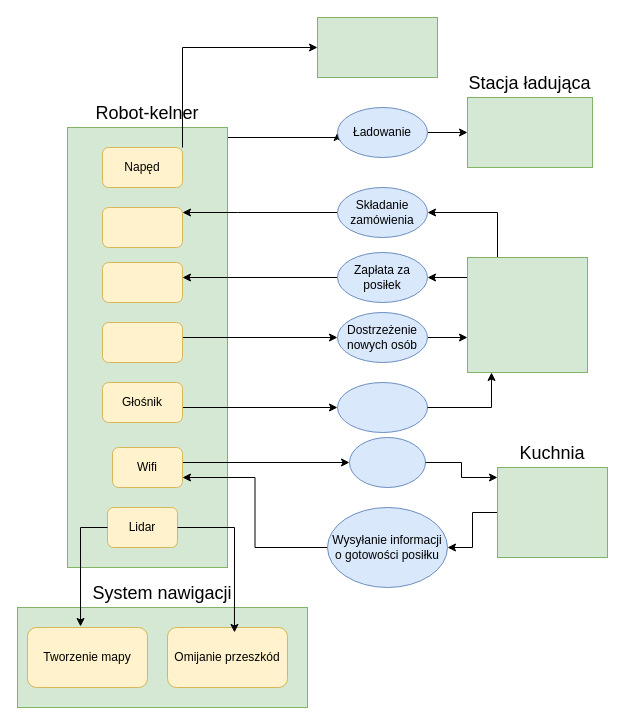
This 625x725 diagram has some shape labels left out. The centre of each missing label's shape, as x and y in pixels:
Kamera: point 142,342
Klient: point 527,314
Komunikacja: point 382,407
Mikrofon: point 142,227
Poruszanie się: point 377,47
Terminal: point 142,282
Wysyłanie zamówień: point 387,462
